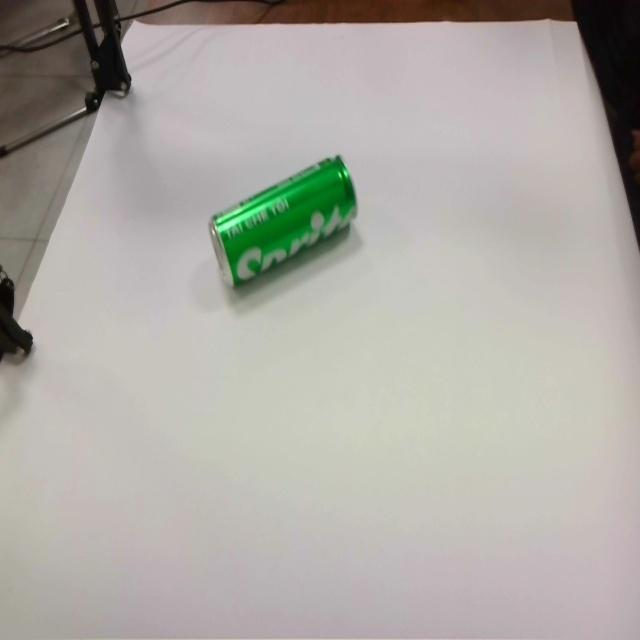debris: (210, 153, 359, 287)
